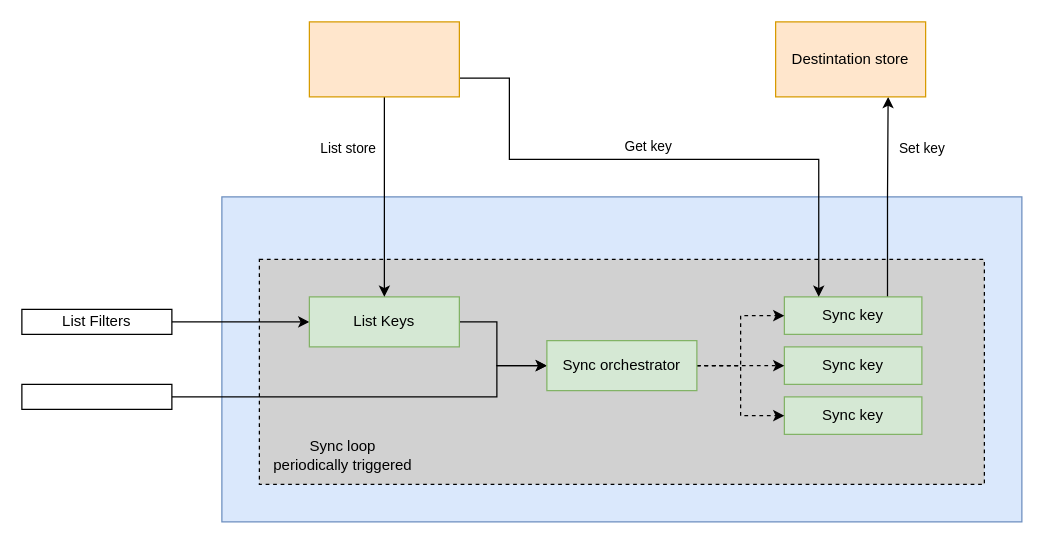
Image size: 1044x544. Some labels were removed from this diagram. The shapes that lost their labels are listed below. From the top down, each one's box as (x1, y1, x2, y2) in pixels, then its label:
(308, 21, 459, 97): Source store
(221, 196, 1022, 522): Manager
(21, 383, 172, 409): Keys
